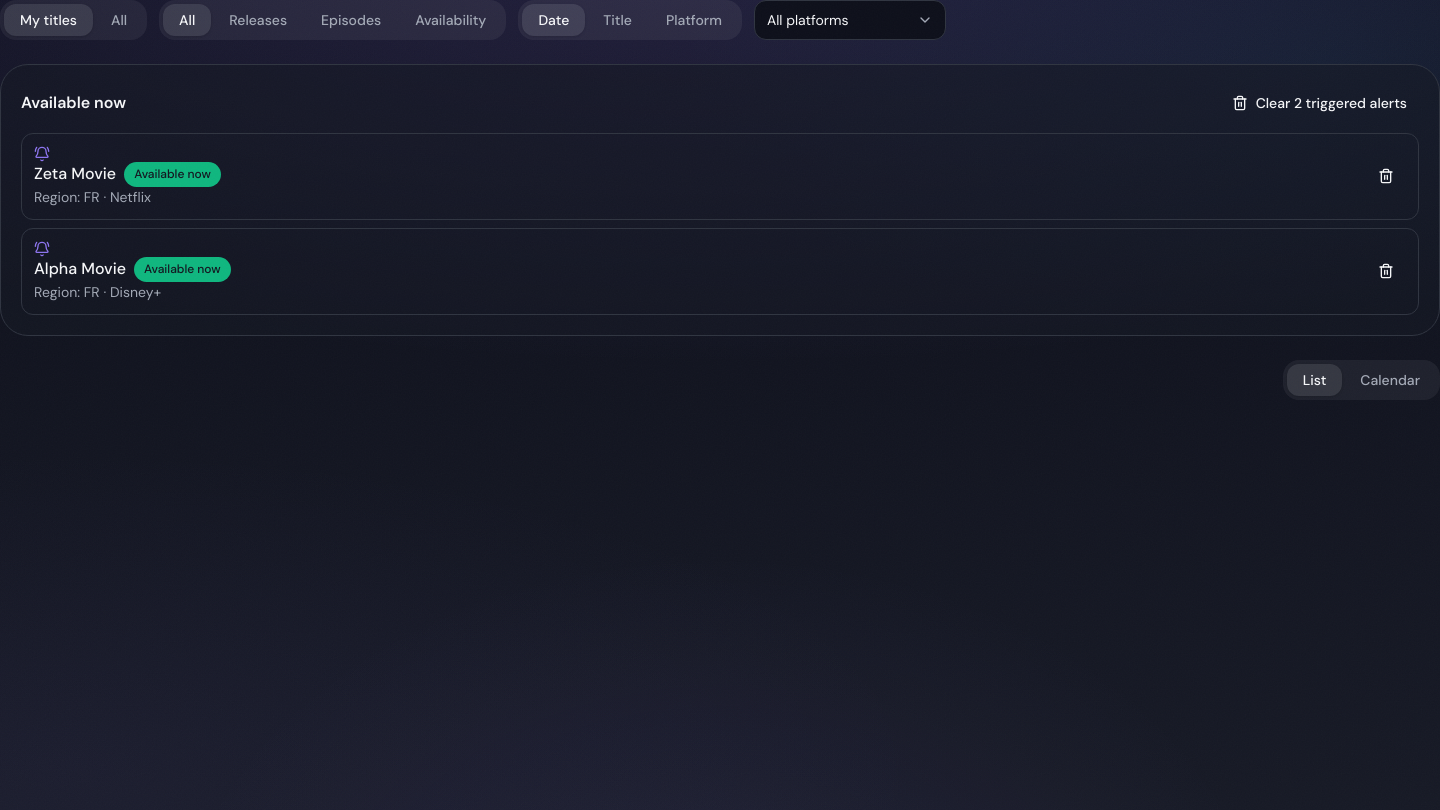
it: TrackingList › filters availability entries down to a single platform
The width and height of the screenshot is (1440, 810).
Check: the text "Zeta Movie" is shown, box [34,162,116,186]
Check: the text "Alpha Movie" is shown, box [34,257,126,281]
Step 1. Select "Disney+" in the dropdown named "Filter by platform" → (850, 20), box [755,1,945,39]
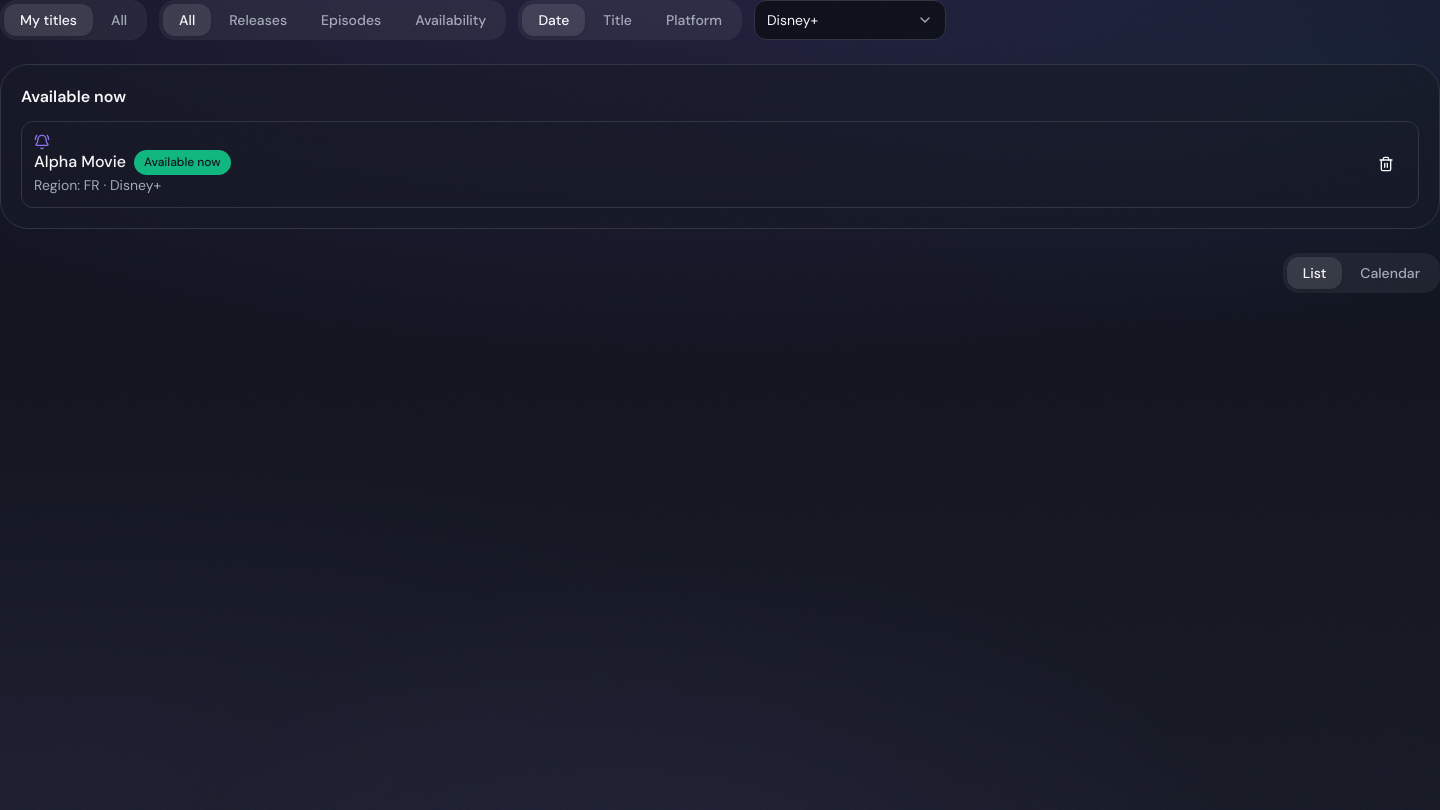
Check: the text "Alpha Movie" is shown, box [34,150,126,174]
Check: the link "Zeta Movie" is gone
